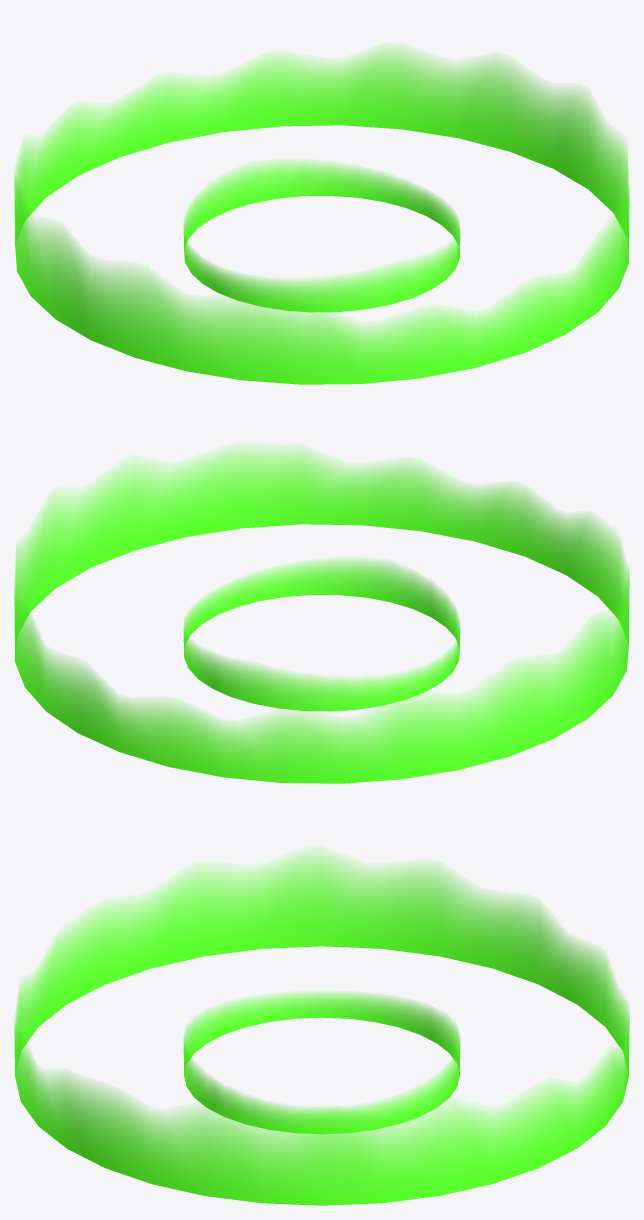
File: StartGameLights.glb
3 views of the same model, one above another, from view 1: azimuth 30°, elevation 25°; view 2: azimuth 150°, elevation 25°; view 3: azimuth 270°, elevation 25° (orthographic).
Parts seen in each view (by area): view 1: StartGameLights; view 2: StartGameLights; view 3: StartGameLights.
Boxes of the visible parts, x1=… form: StartGameLights: x1=14, y1=45, x2=629, y2=384; StartGameLights: x1=14, y1=445, x2=629, y2=783; StartGameLights: x1=14, y1=850, x2=629, y2=1205.
Size of the model in its own units: 8.09 by 1.95 by 8.09.
1 material, 1 textured.
